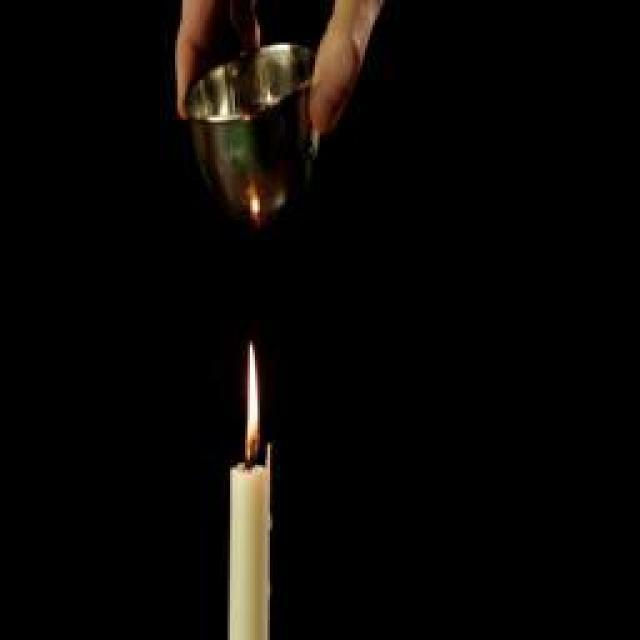Fire: (245, 345, 260, 463)
